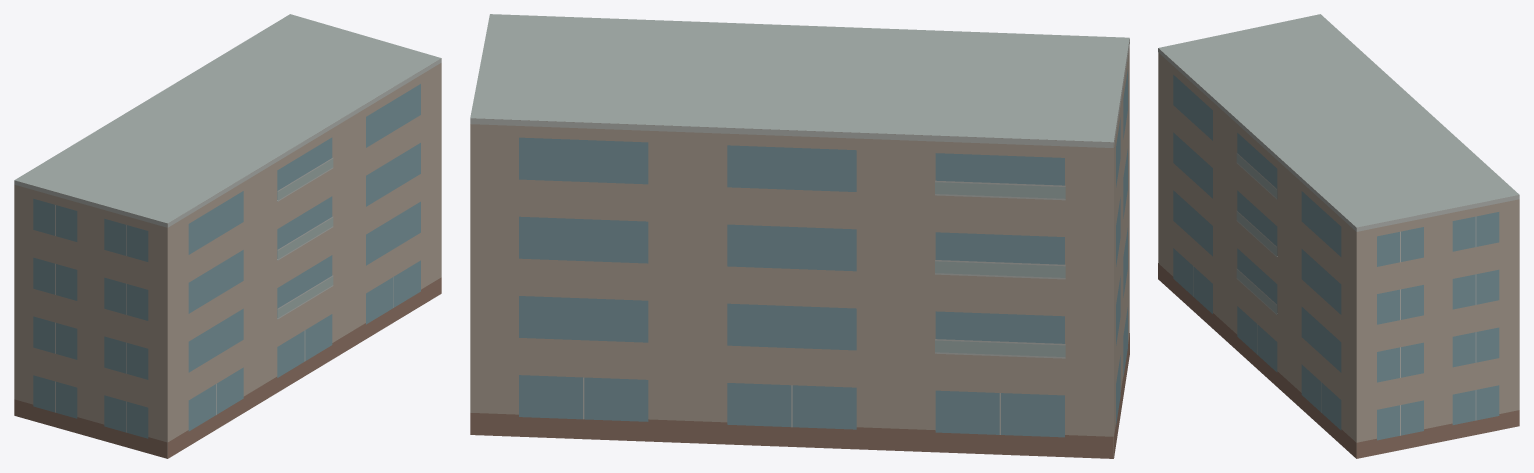
The model's file is survey-upis-32629332.glb.
3 views of the same model, side by side, from view 1: azimuth 30°, elevation 25°; view 2: azimuth 150°, elevation 25°; view 3: azimuth 270°, elevation 25° (orthographic). The views are drawn at different scales.
Parts seen in each view (by area): view 1: survey-upis-32629332.tmp; view 2: survey-upis-32629332.tmp; view 3: survey-upis-32629332.tmp.
Boxes of the visible parts, bbox=[...] form: survey-upis-32629332.tmp: bbox=[14, 14, 441, 458]; survey-upis-32629332.tmp: bbox=[470, 14, 1129, 458]; survey-upis-32629332.tmp: bbox=[1158, 14, 1519, 458].
Size of the model in its own units: 25.96 by 13.1 by 18.57.
